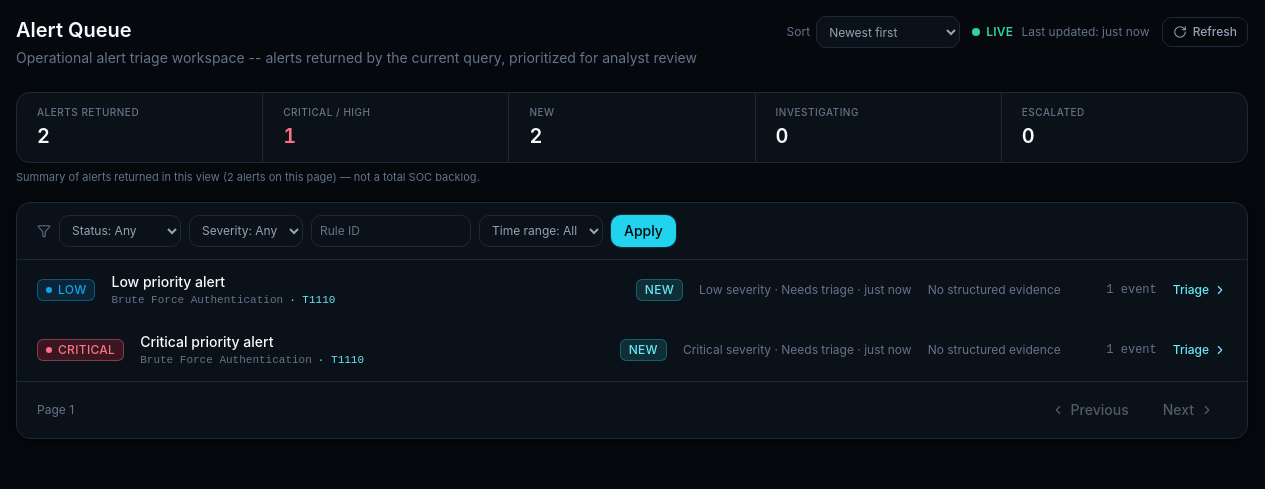
Step 12M: SOC Alert Queue & Analyst Workbench › 12-13. priority sorting reuses Step 12G exactly and is explicitly page-scoped
Expected: the text "Low priority alert" is shown, [112, 272, 225, 290]
Select "Priority (this page)" in the dropdown labelled "Sort": (888, 32) [816, 16, 960, 48]
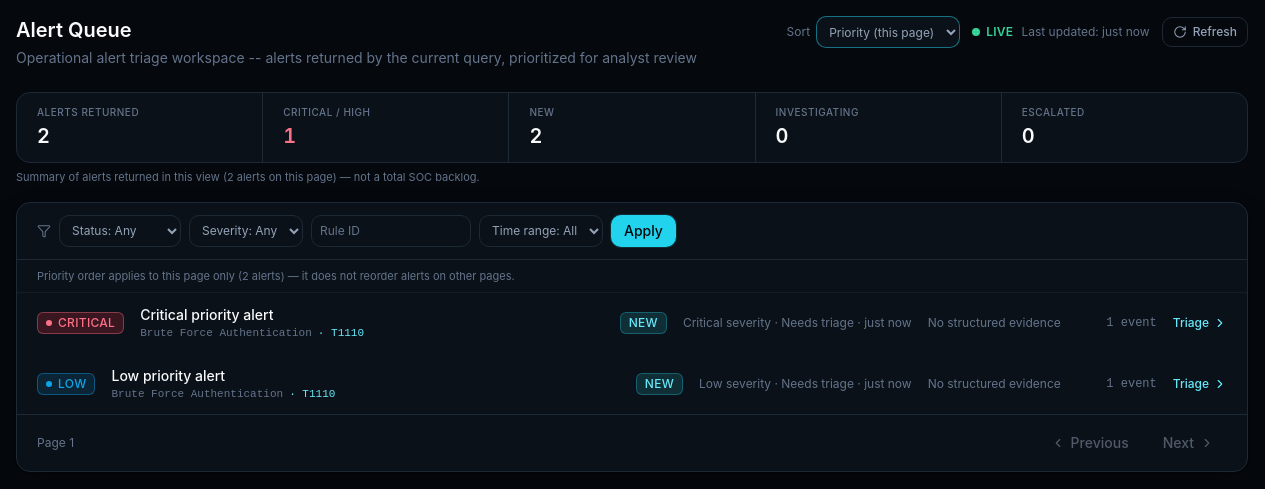
Expected: the button named "priority alert" shows "Critical priority alert", [17, 293, 1247, 354]
Now the text "Priority order applies to this page only" is shown, box [37, 268, 242, 282]
